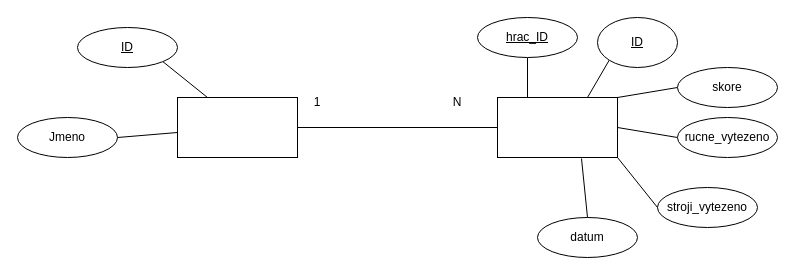
Image size: 795x275. Some labels were removed from this diagram. Each missing label, with the centre of its shape:
Hra: point (557, 127)
Hraci: point (237, 127)
